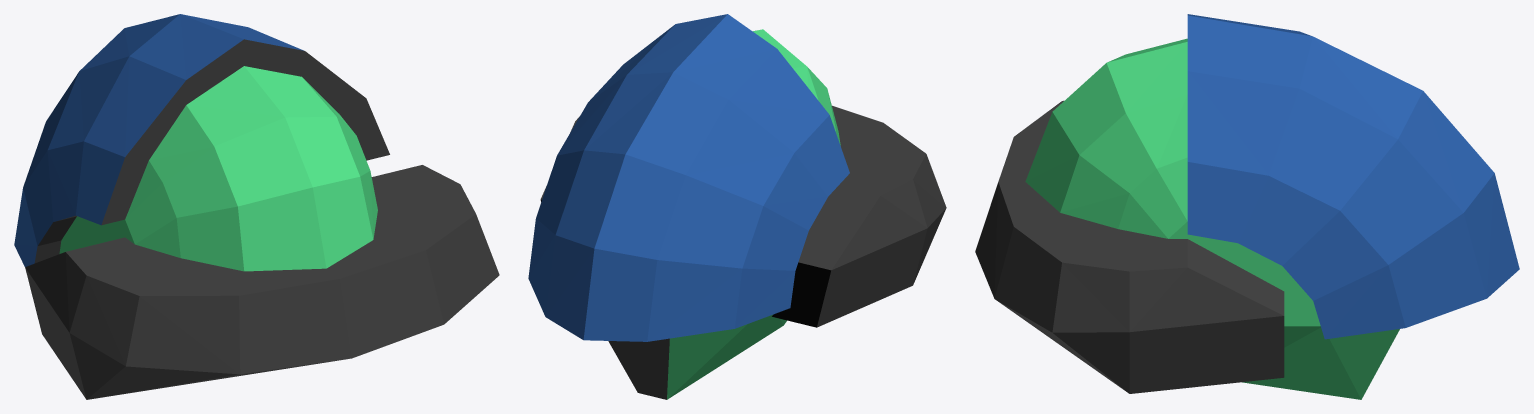
Rendered from Head.FBX.
3 views of the same model, side by side, from view 1: azimuth 30°, elevation 25°; view 2: azimuth 150°, elevation 25°; view 3: azimuth 270°, elevation 25° (orthographic). The views are drawn at different scales.
Visible parts, largest first — view 1: VIFS002, VIFS003, VIFS001; view 2: VIFS001, VIFS002, VIFS003, VIFS004; view 3: VIFS001, VIFS002, VIFS003.
Part boxes in pixels (<box>): VIFS002: <box>25,39,499,399</box>; VIFS003: <box>59,66,377,271</box>; VIFS001: <box>14,14,304,266</box>; VIFS001: <box>528,14,849,341</box>; VIFS002: <box>540,105,946,399</box>; VIFS003: <box>667,29,840,399</box>; VIFS004: <box>540,199,831,327</box>; VIFS001: <box>1187,14,1519,339</box>; VIFS002: <box>975,100,1284,393</box>; VIFS003: <box>1025,38,1399,399</box>.
Size of the model in its own units: 0.24 by 0.215 by 0.282.
